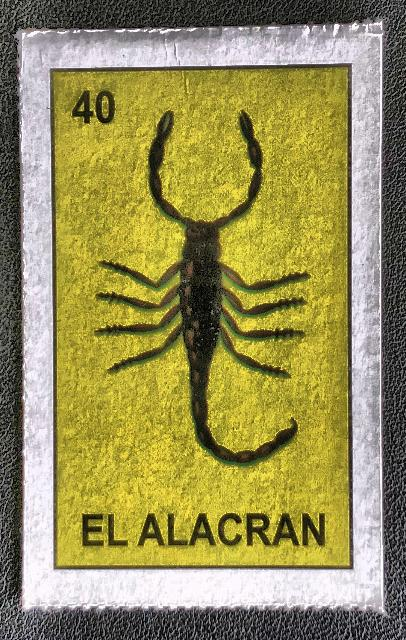El Alacran: (43, 52, 363, 584)
